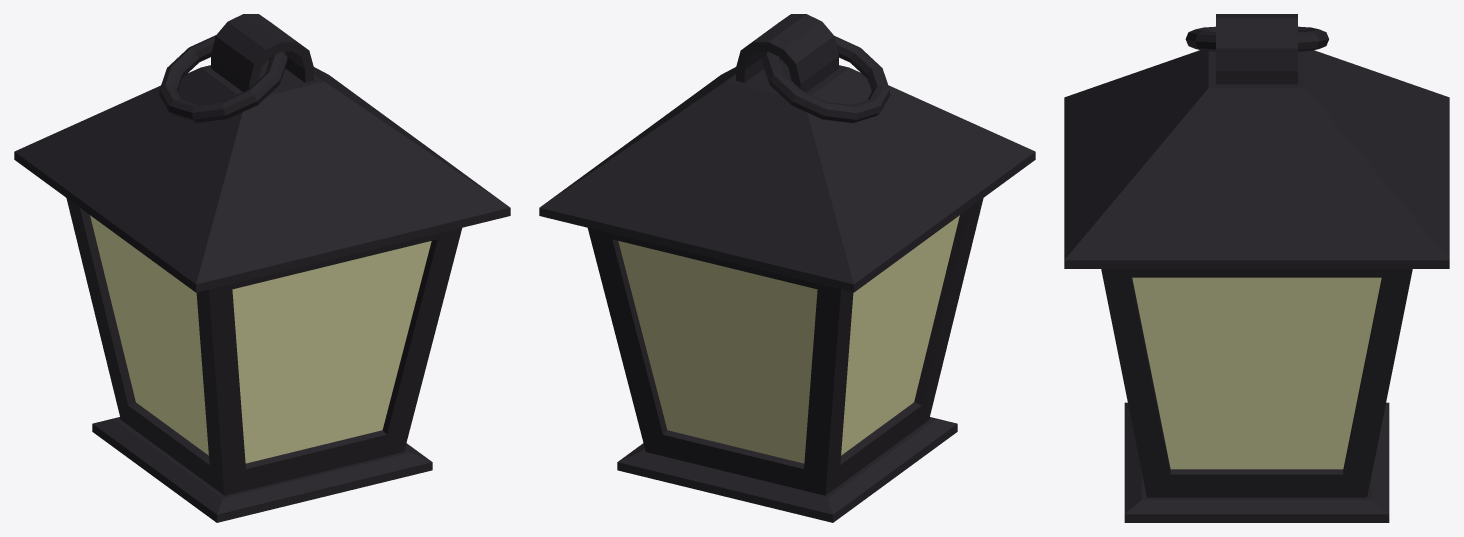
The model's file is Farol.fbx.
3 renders of one model, left to right at view 1: azimuth 30°, elevation 25°; view 2: azimuth 150°, elevation 25°; view 3: azimuth 270°, elevation 25°, orthographic. The views are drawn at different scales.
Parts seen in each view (by area): view 1: Lampara_argolla.002; view 2: Lampara_argolla.002; view 3: Lampara_argolla.002.
Boxes of the visible parts, x1,y1,x2,y2 form: Lampara_argolla.002: (14,14,510,522); Lampara_argolla.002: (539,14,1035,522); Lampara_argolla.002: (1064,14,1449,522).
Bounding box in the file's own units: 2.43 × 3.12 × 2.43.
